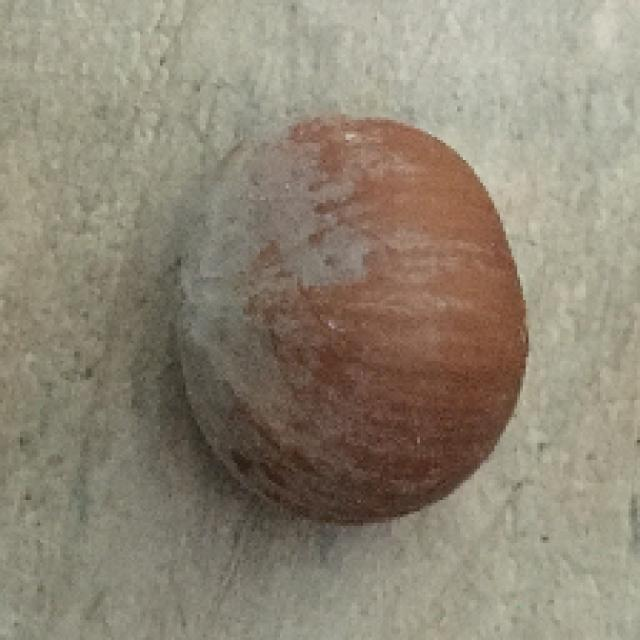qualityHazelnut: (164, 113, 536, 510)
